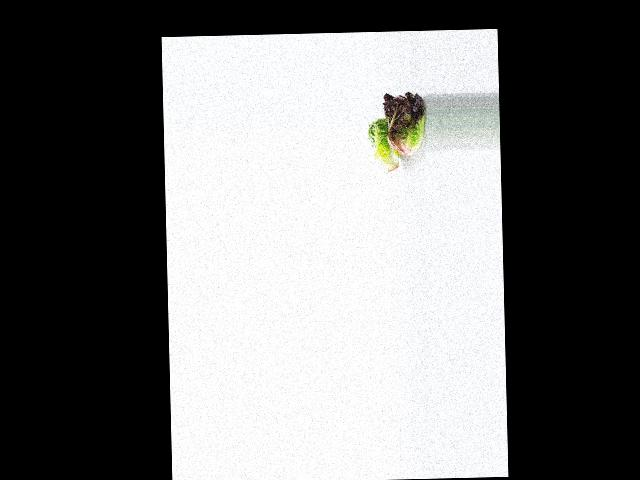lettuce: (367, 117, 401, 174)
